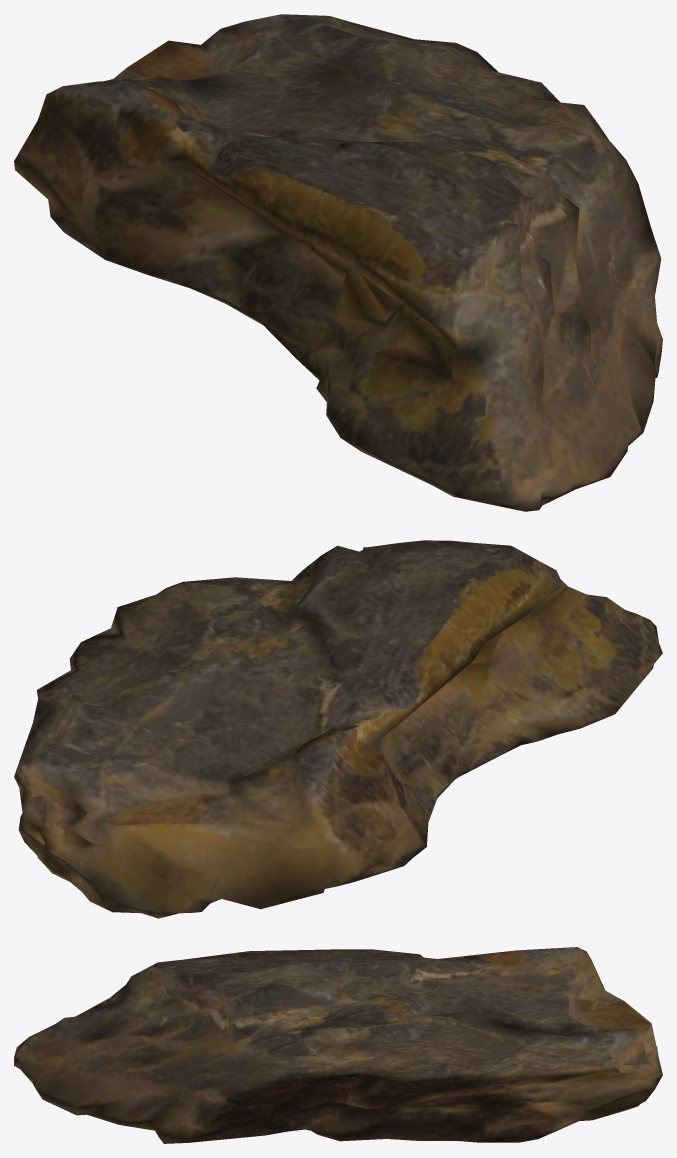
Rendered from rock_09.glb.
The picture shows the model from 3 angles, top to bottom: view 1: azimuth 30°, elevation 25°; view 2: azimuth 150°, elevation 25°; view 3: azimuth 270°, elevation 25°; orthographic projection. The views are drawn at different scales.
Parts seen in each view (by area): view 1: rock_09_LOD0; view 2: rock_09_LOD0; view 3: rock_09_LOD0.
Part boxes in pixels (<box>): rock_09_LOD0: <box>14,14,662,511</box>; rock_09_LOD0: <box>14,540,662,918</box>; rock_09_LOD0: <box>14,947,662,1143</box>.
Size of the model in its own units: 0.0738 by 0.0326 by 0.1446.
1 material, 1 textured.
